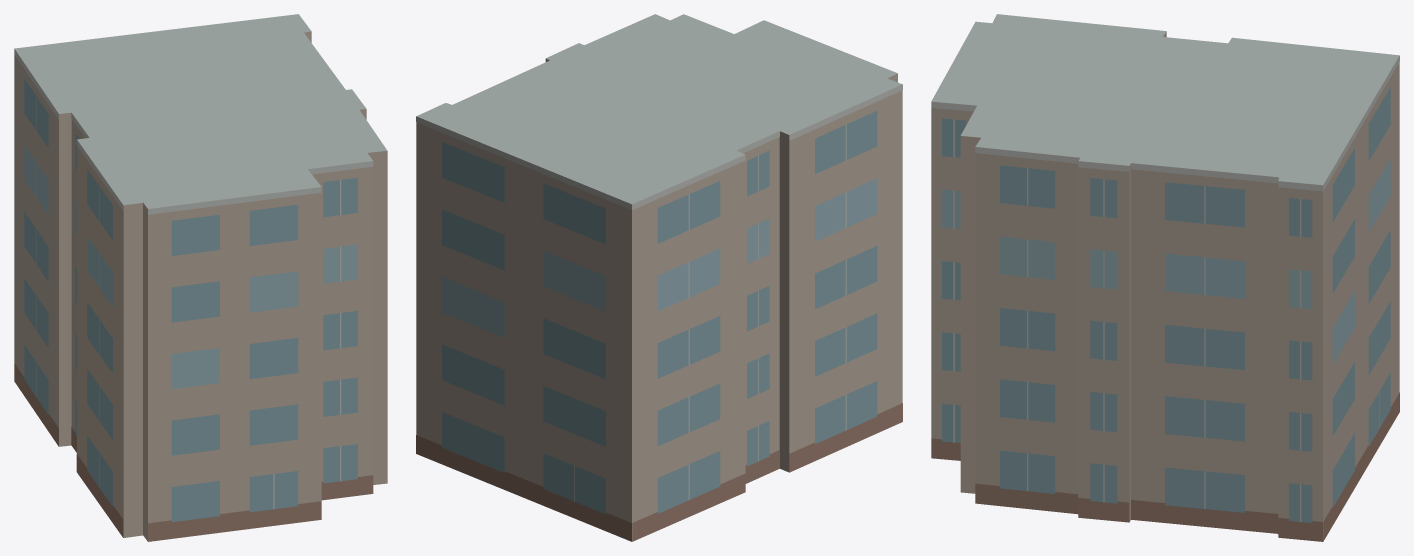
File: survey-upis-32868525.glb
3 views of the same model, side by side, from view 1: azimuth 30°, elevation 25°; view 2: azimuth 150°, elevation 25°; view 3: azimuth 270°, elevation 25° (orthographic). The views are drawn at different scales.
Parts seen in each view (by area): view 1: survey-upis-32868525.tmp; view 2: survey-upis-32868525.tmp; view 3: survey-upis-32868525.tmp.
Boxes of the visible parts, left/top/right/bottom form: survey-upis-32868525.tmp: left=14, top=14, right=387, bottom=541; survey-upis-32868525.tmp: left=416, top=14, right=902, bottom=541; survey-upis-32868525.tmp: left=931, top=14, right=1399, bottom=541.
Size of the model in its own units: 14.53 by 14.1 by 16.8.
